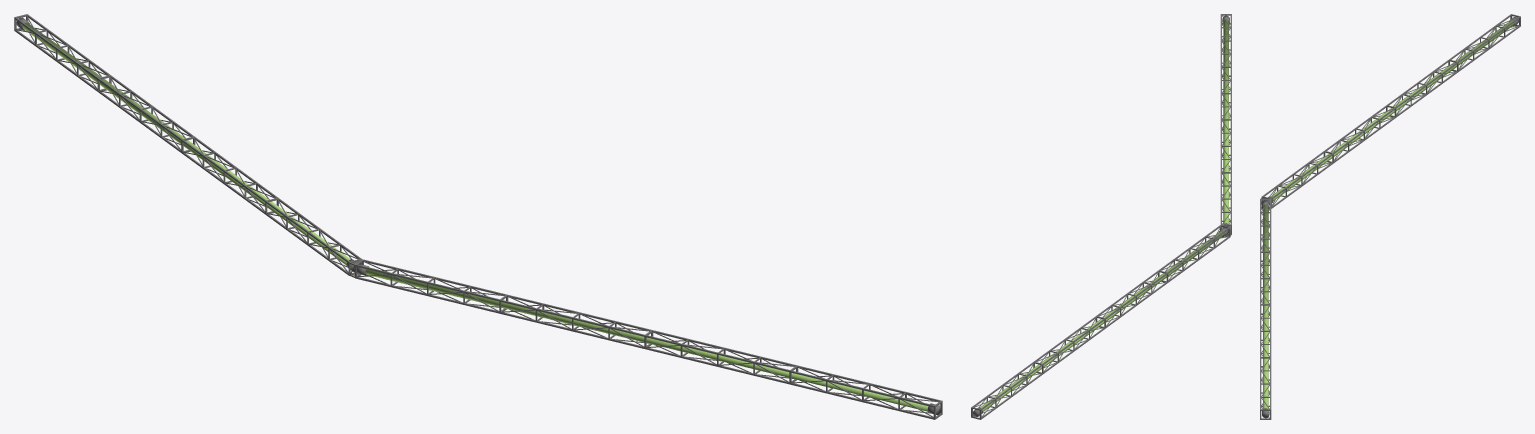
The model's file is Light_L_shape.fbx.
3 renders of one model, left to right at view 1: azimuth 30°, elevation 25°; view 2: azimuth 150°, elevation 25°; view 3: azimuth 330°, elevation 25°, orthographic. The views are drawn at different scales.
Parts seen in each view (by area): view 1: Light_square; view 2: Light_square; view 3: Light_square.
Part boxes in pixels (x1,y1,x2,y2): Light_square: [14, 14, 942, 419]; Light_square: [971, 14, 1231, 419]; Light_square: [1260, 14, 1520, 419].
Size of the model in its own units: 523 by 22.5 by 1877.
